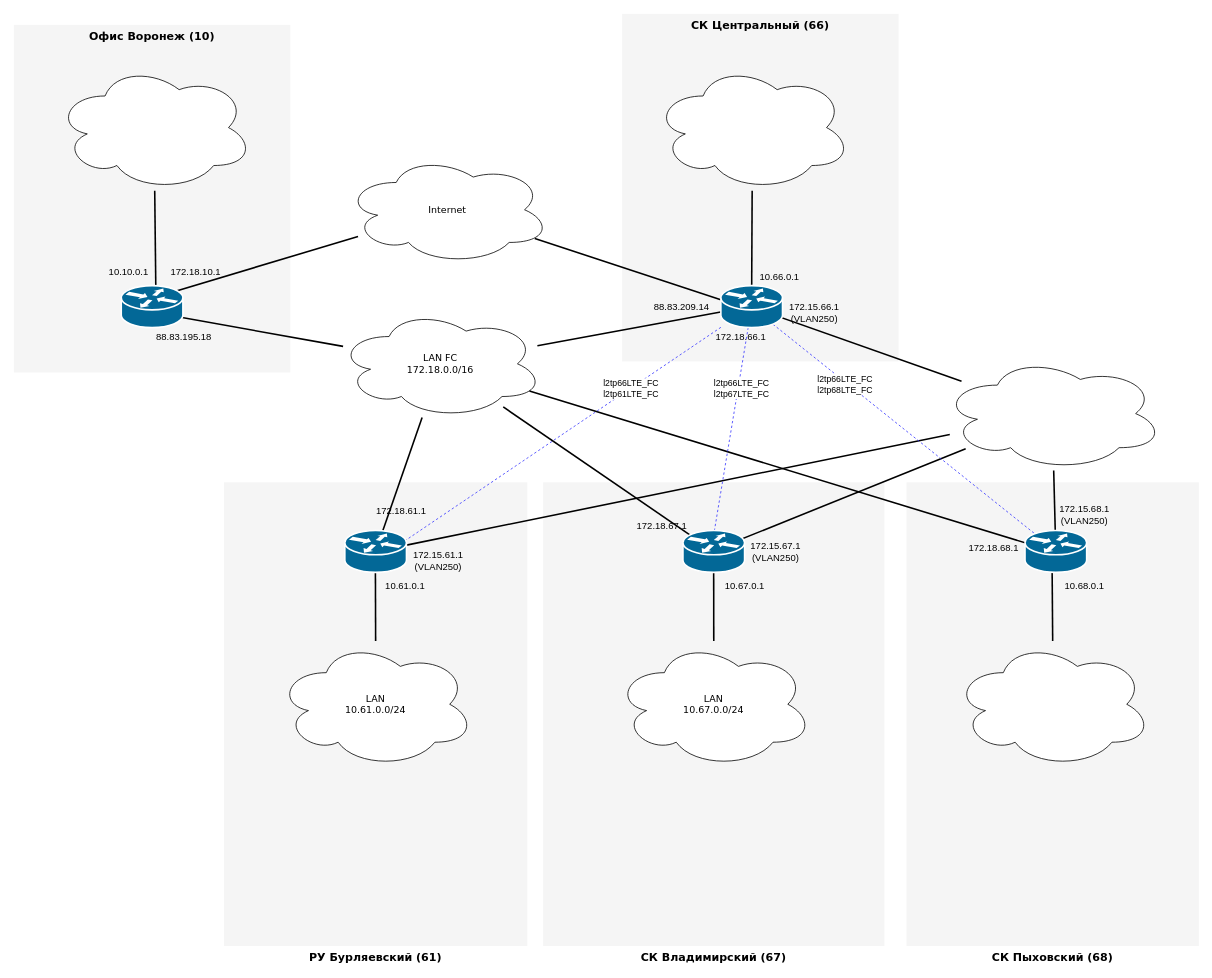
Some shapes in this 1212 by 978 pixel diagram are drawn without their labels. Each missing label, with the centre of its shape:
"LAN 10.10.0.0/16" belongs at point 154,127.
"LAN 10.66.0.0/24" belongs at point 752,127.
"LAN 10.68.0.0/24" belongs at point 1052,703.
"LAN FC 172.15.0.0/16 (VLAN250)" belongs at point 1052,413.
